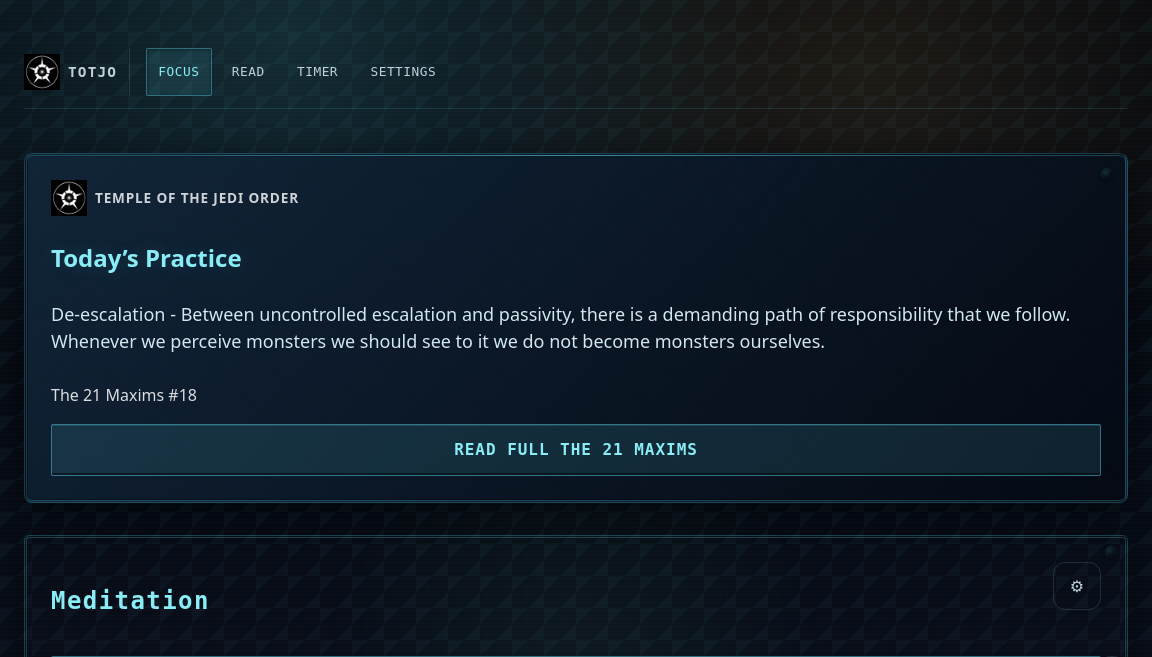
dashboard timer settings › settings panel has link to full timer defaults page
The width and height of the screenshot is (1152, 657).
Click the button with test id "dashboard-timer-settings-toggle": (1077, 586) [1053,562,1101,610]
(page scrolled)
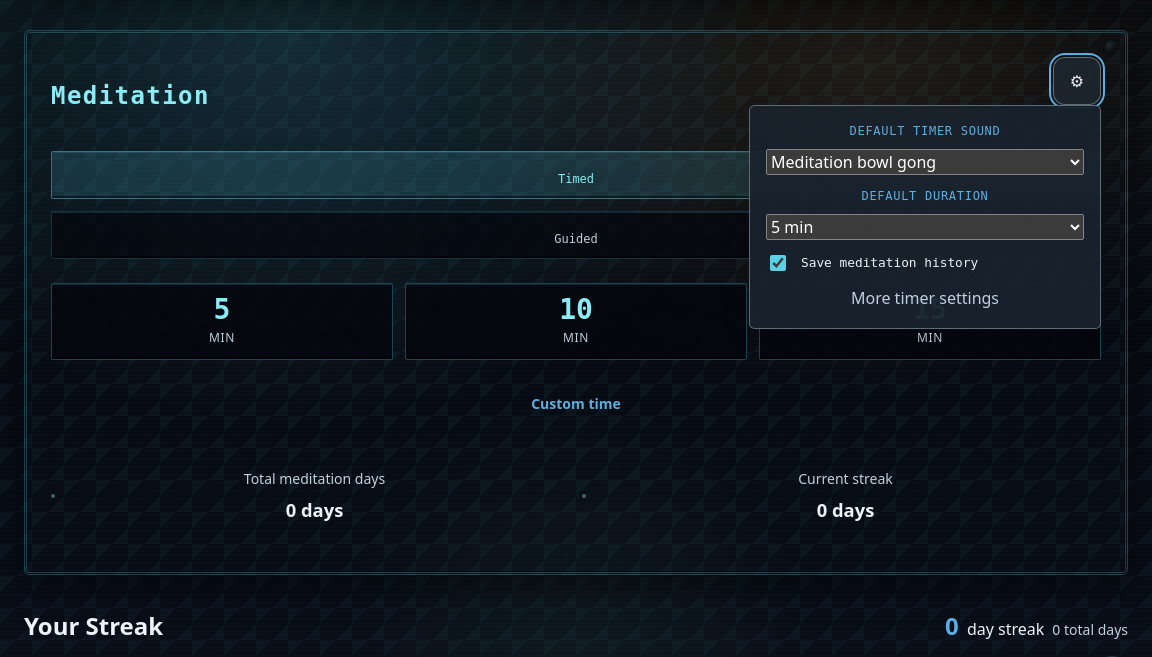
Now the link "More timer settings" is shown, box [851,287,999,309]
